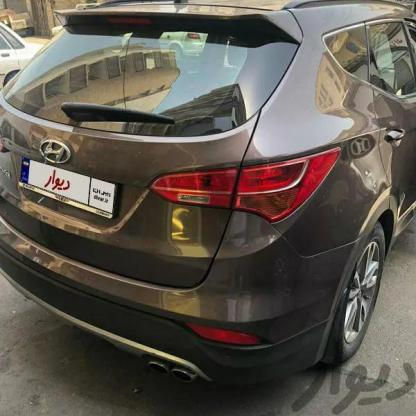Car: (0, 0, 416, 407)
